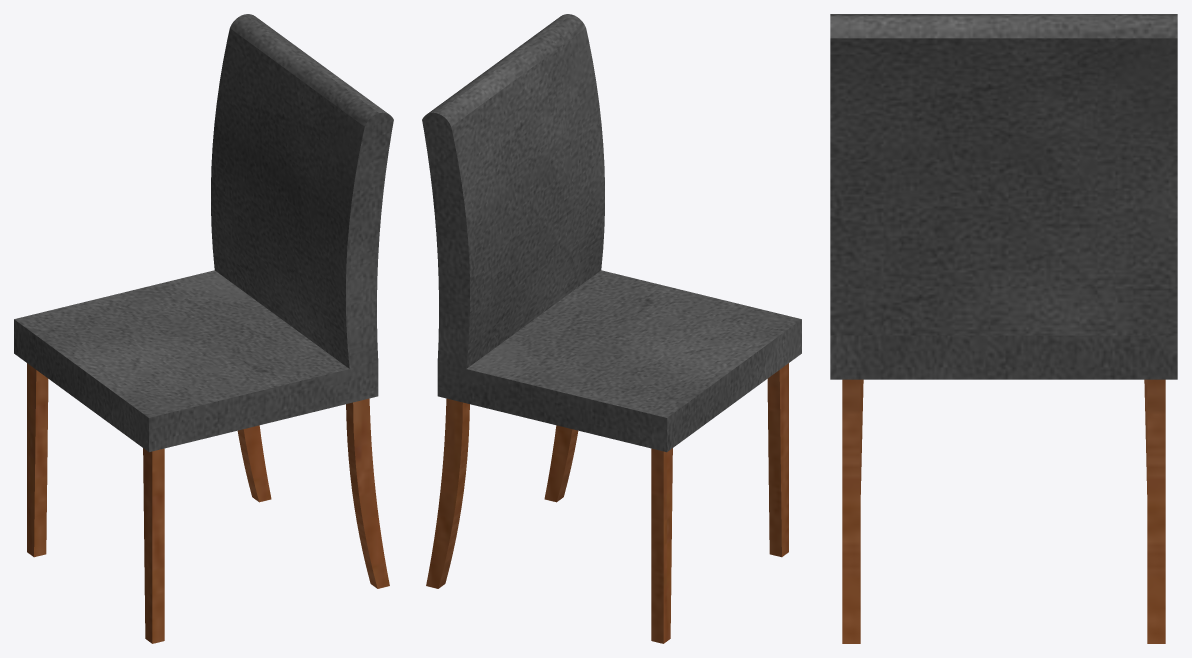
Rendered from Stul.glb.
The picture shows the model from 3 angles, left to right: view 1: azimuth 30°, elevation 25°; view 2: azimuth 150°, elevation 25°; view 3: azimuth 270°, elevation 25°; orthographic projection. The views are drawn at different scales.
Visible parts, largest first — view 1: group_0, group_0.001, group_0.004, group_0.002, group_0.006; view 2: group_0, group_0.006, group_0.002, group_0.004, group_0.001; view 3: group_0, group_0.001, group_0.006.
Part boxes in pixels (x1,y1,x2,y2): group_0: [14, 14, 393, 452]; group_0.001: [346, 398, 389, 588]; group_0.004: [143, 448, 164, 643]; group_0.002: [27, 363, 48, 557]; group_0.006: [237, 425, 271, 502]; group_0: [422, 14, 801, 452]; group_0.006: [426, 398, 469, 588]; group_0.002: [651, 448, 672, 643]; group_0.004: [767, 363, 788, 557]; group_0.001: [544, 425, 578, 502]; group_0: [830, 14, 1177, 379]; group_0.001: [842, 379, 860, 643]; group_0.006: [1147, 379, 1165, 643].
Size of the model in its own units: 0.6 by 1.12 by 0.5708.
3 materials, 2 textured.
